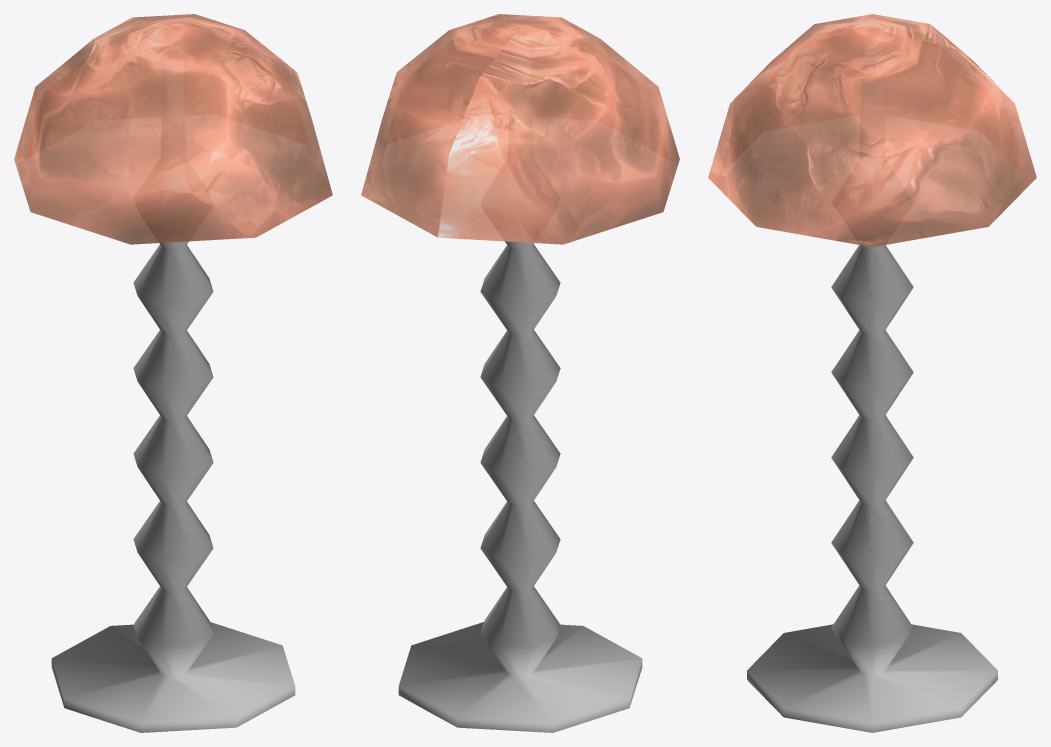
The model's file is salt-crystal-standing-lamp.glb.
3 renders of one model, left to right at view 1: azimuth 30°, elevation 25°; view 2: azimuth 150°, elevation 25°; view 3: azimuth 270°, elevation 25°, orthographic.
Visible parts, largest first — view 1: lamp; view 2: lamp; view 3: lamp.
Boxes of the visible parts, box(x1,y1,x2,y2) form: lamp: box(14, 14, 332, 732); lamp: box(361, 14, 679, 732); lamp: box(708, 14, 1036, 732).
Size of what is drawn, in the model's own units: 2 by 4.37 by 2.
2 materials, 1 textured.
